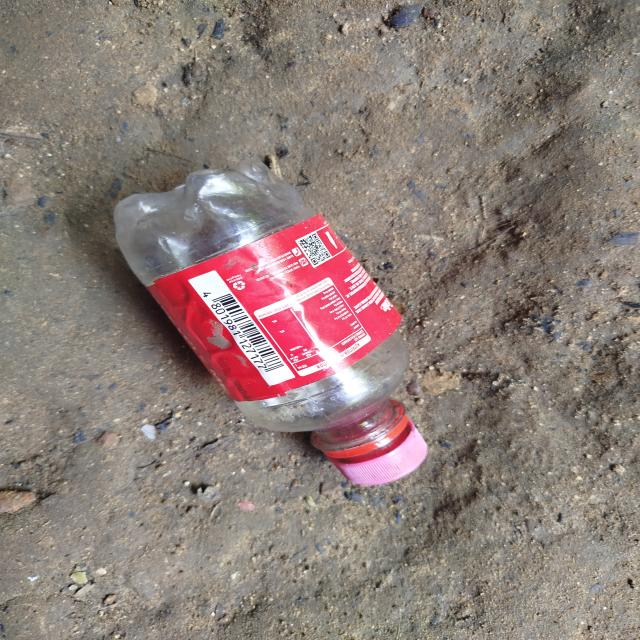plastic: (92, 141, 460, 481)
